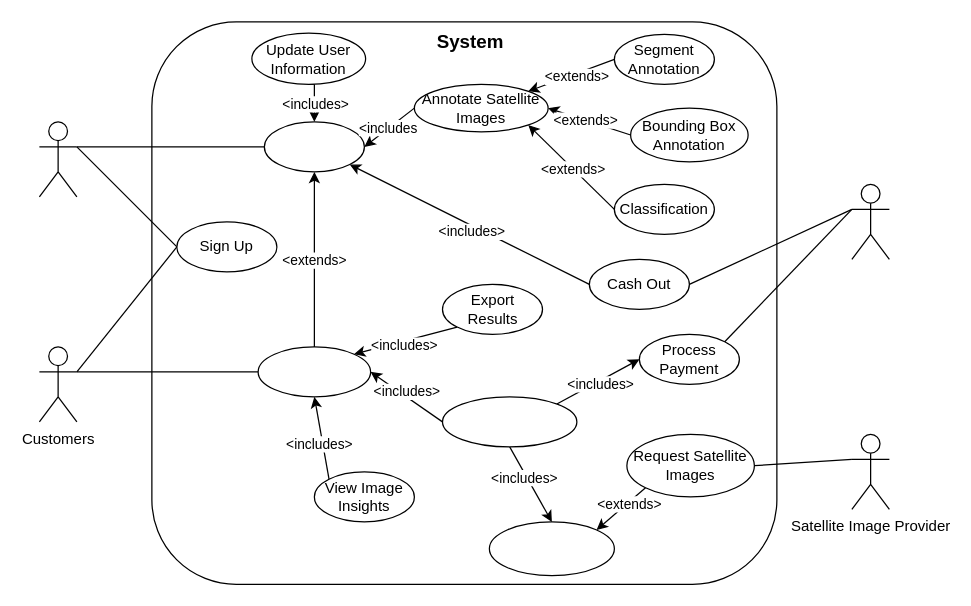
This 971x606 diagram has some shape labels left out. The centre of each missing label's shape, as x and y in pixels:
"Customer Log In" belongs at (314,371).
"Financial Institution" belongs at (870,221).
"Labellers" belongs at (57,159).
"Log In" belongs at (313,146).
"Request Satellite Image Analysis" belongs at (509,421).
"Upload Satellite Images" belongs at (551,548).
